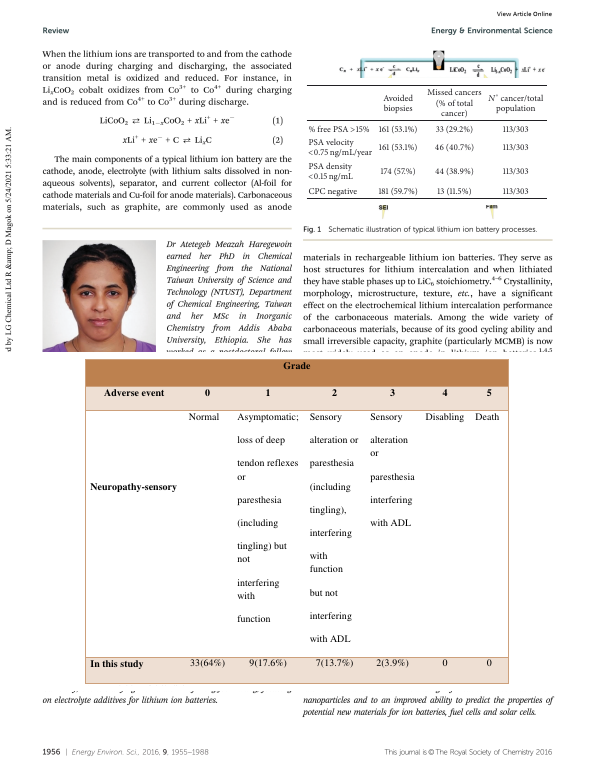bordered: (84, 358, 508, 683)
borderless: (305, 83, 547, 198)
cell: (236, 410, 300, 625), (309, 410, 359, 645), (369, 410, 416, 529), (426, 88, 483, 119), (307, 137, 373, 160), (487, 89, 544, 114), (89, 479, 178, 493), (307, 161, 354, 184), (307, 120, 371, 136), (103, 385, 165, 399), (89, 656, 145, 669), (382, 93, 414, 114), (307, 186, 358, 197), (425, 410, 465, 423), (248, 656, 288, 669), (315, 656, 354, 669), (189, 656, 226, 669), (377, 186, 419, 197), (375, 656, 410, 669), (434, 142, 475, 153), (434, 166, 475, 177), (378, 142, 418, 153), (188, 410, 220, 423), (380, 166, 417, 177), (436, 186, 473, 197), (282, 358, 311, 372), (378, 124, 418, 134), (435, 124, 474, 134), (474, 410, 500, 423), (502, 142, 530, 153), (502, 166, 530, 177), (502, 186, 530, 197), (502, 124, 530, 134), (204, 385, 211, 399), (265, 385, 272, 399), (331, 385, 338, 399), (389, 385, 396, 399), (441, 385, 448, 399), (486, 385, 493, 399), (441, 656, 448, 669), (486, 656, 493, 669)
